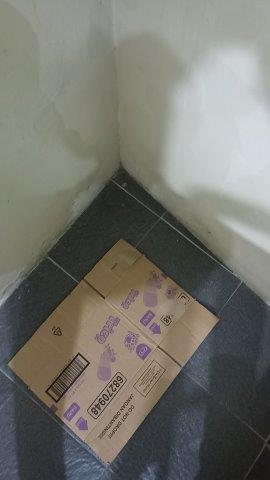kardus: (9, 240, 218, 465)
